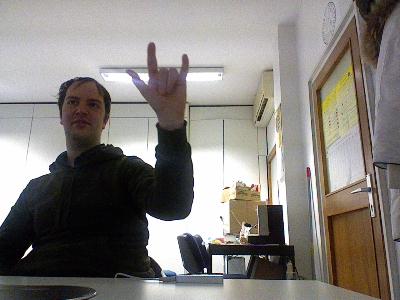我爱你: (125, 41, 189, 116)
